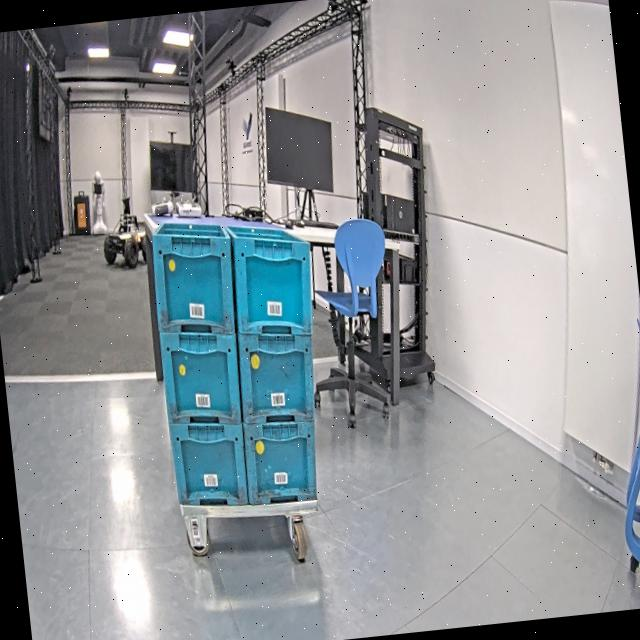BoxB8: (224, 214, 320, 344), (147, 210, 240, 344), (158, 324, 246, 434), (234, 324, 320, 432), (168, 414, 250, 514), (240, 418, 324, 507)
